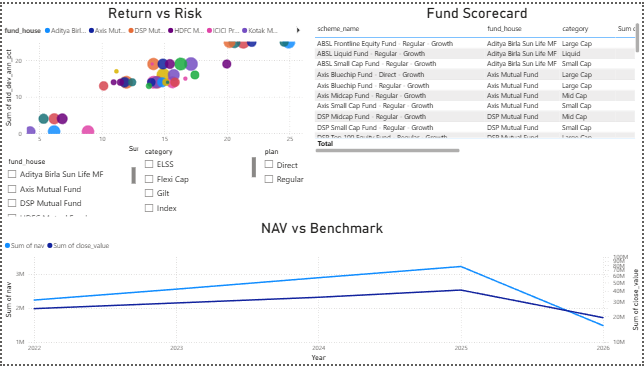

The page's visual inventory and layout, read from the dashboard file:
{"tool":"powerbi","page":{"name":"Fund Performance","canvas":[1280,720],"ordinal":1},"visuals":[{"type":"scatterChart","title":"Return vs Risk","fields":{"X":["Sum(07_scheme_performance_cleaned.return_1yr_pct)"],"Y":["Sum(07_scheme_performance_cleaned.std_dev_ann_pct)"],"Size":["Sum(07_scheme_performance_cleaned.aum_crore)"],"Category":["07_scheme_performance_cleaned.scheme_name"],"Series":["07_scheme_performance_cleaned.fund_house"]},"box":[0,0,612.5,302.5],"z":0},{"type":"slicer","title":"Fund House","fields":{"Values":["07_scheme_performance_cleaned.fund_house"]},"box":[0,302.5,272.5,127.5],"z":1000},{"type":"slicer","fields":{"Values":["07_scheme_performance_cleaned.category"]},"box":[272.5,282.5,240,147.5],"z":2000},{"type":"slicer","fields":{"Values":["07_scheme_performance_cleaned.plan"]},"box":[512.5,282.5,197.5,242.5],"z":3000},{"type":"tableEx","title":"Fund Scorecard","fields":{"Values":["07_scheme_performance_cleaned.scheme_name","07_scheme_performance_cleaned.fund_house","07_scheme_performance_cleaned.category","Sum(07_scheme_performance_cleaned.return_1yr_pct)","Sum(07_scheme_performance_cleaned.return_3yr_pct)","Sum(07_scheme_performance_cleaned.return_5yr_pct)","07_scheme_performance_cleaned.risk_grade","Sum(07_scheme_performance_cleaned.std_dev_ann_pct)","Sum(07_scheme_performance_cleaned.sharpe_ratio)"]},"box":[620,0,660,302.5],"z":4000},{"type":"lineChart","title":"NAV vs Benchmark","fields":{"Category":["02_nav_history_cleaned.date.Variation.Date Hierarchy.Year","02_nav_history_cleaned.date.Variation.Date Hierarchy.Quarter","02_nav_history_cleaned.date.Variation.Date Hierarchy.Month","02_nav_history_cleaned.date.Variation.Date Hierarchy.Day"],"Y":["Sum(02_nav_history_cleaned.nav)"],"Y2":["Sum(10_benchmark_indices_cleaned.close_value)"]},"box":[0,430,1280,290],"z":5000}]}

Visuals, with their boxes in screenshot pixels (x1, y1, x2, y2), scaled from the page's 1280x720 canvas onto the 644x368 screenshot:
"Return vs Risk" scatterChart: 0 0 308 155
"Fund House" slicer: 0 155 137 220
slicer - 07_scheme_performance_cleaned.category: 137 144 258 220
slicer - 07_scheme_performance_cleaned.plan: 258 144 357 268
"Fund Scorecard" tableEx: 312 0 643 155
"NAV vs Benchmark" lineChart: 0 220 643 367
